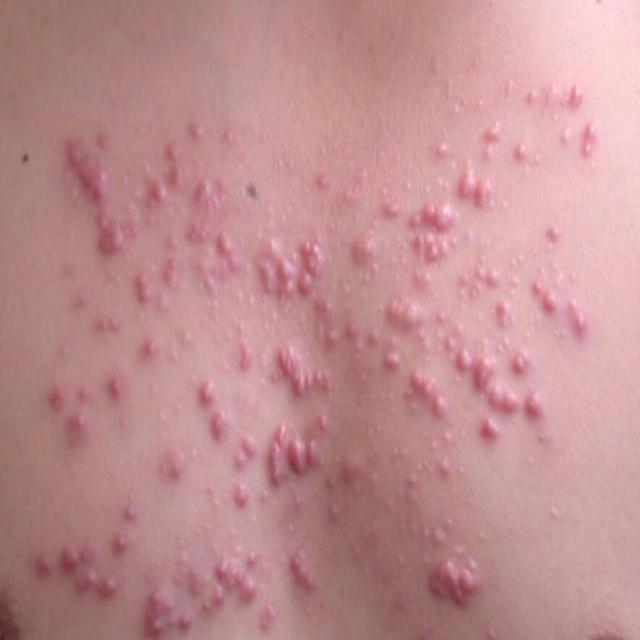6: (290, 434, 338, 484)
papules: (146, 116, 218, 213), (452, 347, 521, 427), (271, 341, 337, 399), (63, 543, 119, 607), (406, 201, 462, 263), (208, 551, 268, 605), (434, 553, 484, 612), (64, 137, 108, 204), (408, 366, 455, 426), (143, 587, 194, 637), (382, 284, 428, 337), (264, 414, 288, 495), (280, 547, 320, 593), (296, 239, 324, 302), (95, 214, 131, 260), (515, 343, 531, 380)
